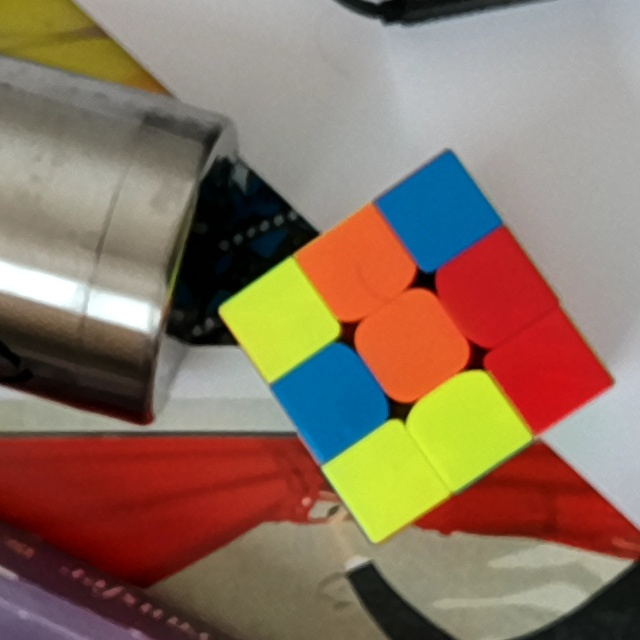tile: (459, 256, 529, 324), (376, 313, 446, 376), (301, 366, 365, 430), (434, 393, 500, 455), (516, 342, 579, 406), (355, 446, 418, 509), (406, 183, 470, 242), (326, 238, 387, 297), (253, 287, 310, 349)
